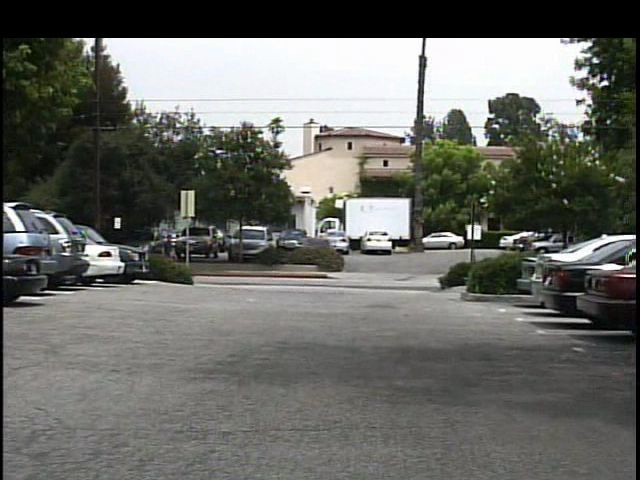person: (159, 230, 181, 278)
